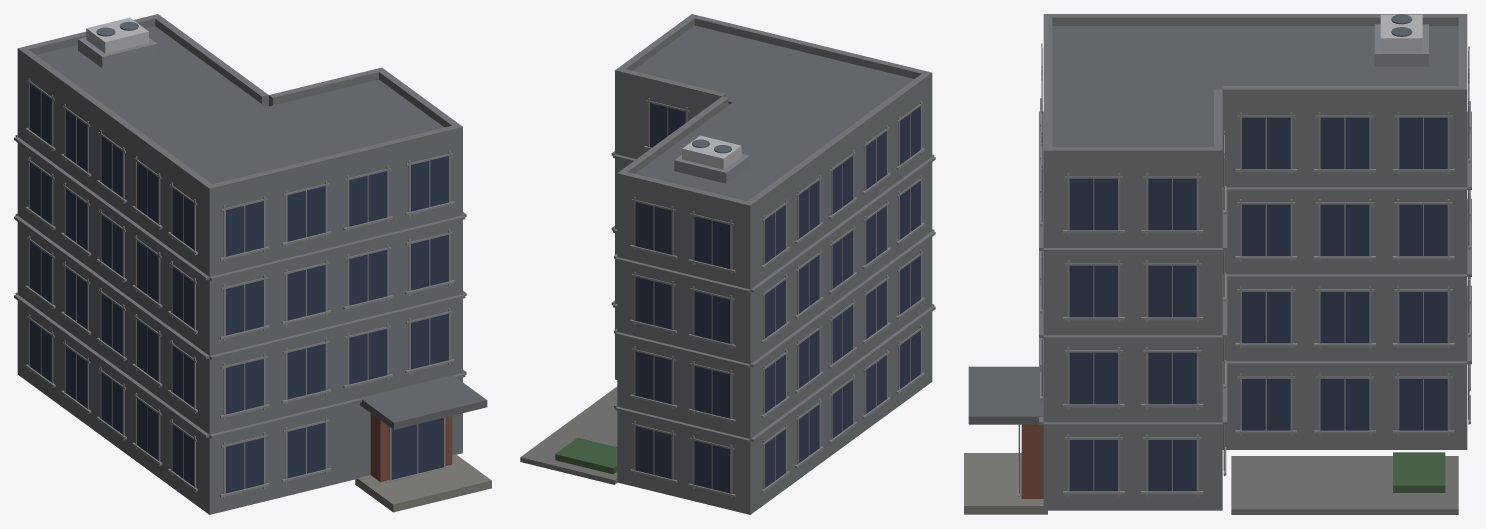
File: civic_corner_04x03_lvl1.glb
3 views of the same model, side by side, from view 1: azimuth 30°, elevation 25°; view 2: azimuth 150°, elevation 25°; view 3: azimuth 270°, elevation 25° (orthographic). The views are drawn at different scales.
Visible parts, largest first — view 1: civic_corner_04x03; view 2: civic_corner_04x03; view 3: civic_corner_04x03.
Part boxes in pixels (x1=…): civic_corner_04x03: x1=14, y1=14, x2=491, y2=514; civic_corner_04x03: x1=520, y1=14, x2=935, y2=514; civic_corner_04x03: x1=964, y1=14, x2=1471, y2=514.
Size of the model in its own units: 0.6546 by 0.8581 by 1.
